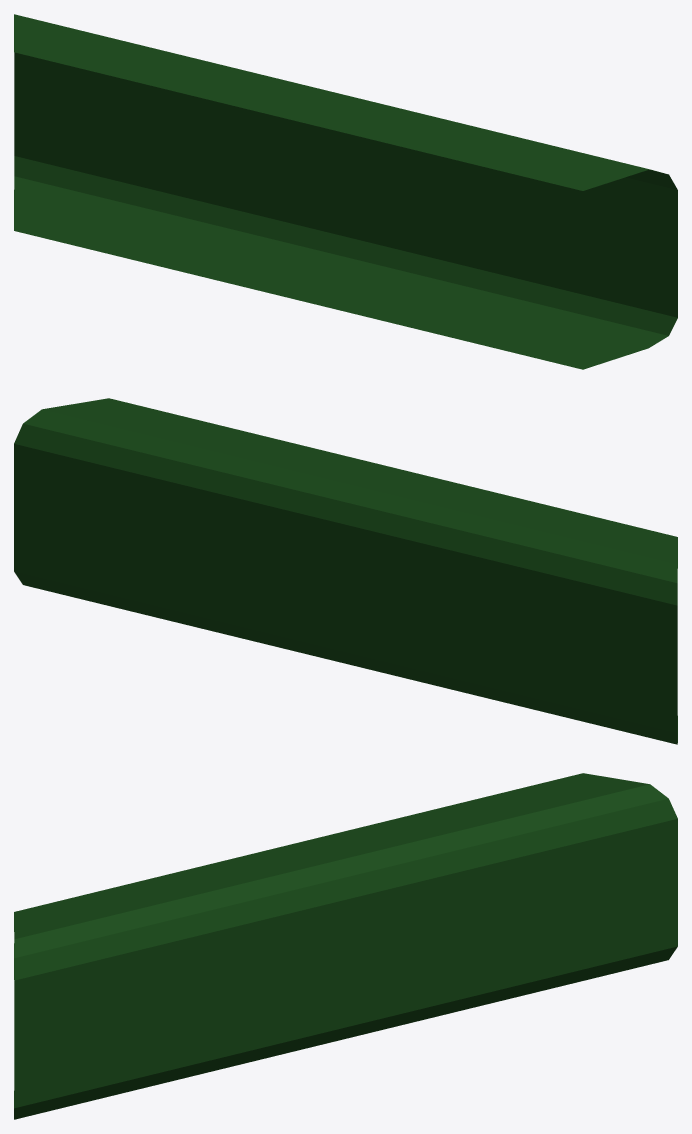
File: forest_overhang.glb
3 views of the same model, one above another, from view 1: azimuth 30°, elevation 25°; view 2: azimuth 210°, elevation 25°; view 3: azimuth 270°, elevation 25° (orthographic).
Parts seen in each view (by area): view 1: Cylinder.001; view 2: Cylinder.001; view 3: Cylinder.001.
Boxes of the visible parts, x1,y1,x2,y2 form: Cylinder.001: (14, 14, 677, 369); Cylinder.001: (14, 398, 677, 744); Cylinder.001: (14, 773, 677, 1119).
Bounding box in the file's own units: 0.667 × 0.3089 × 1.01.
